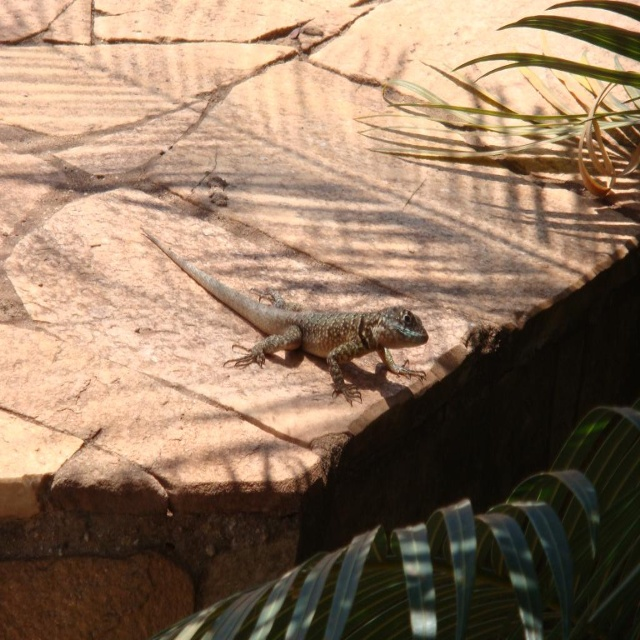Lizard: (154, 241, 437, 423)
